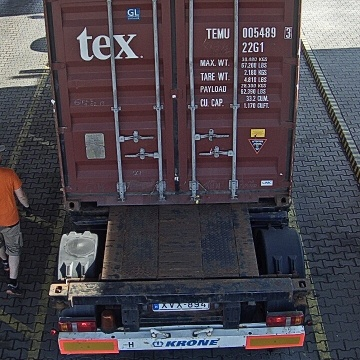serial_id: (206, 27, 292, 38)
